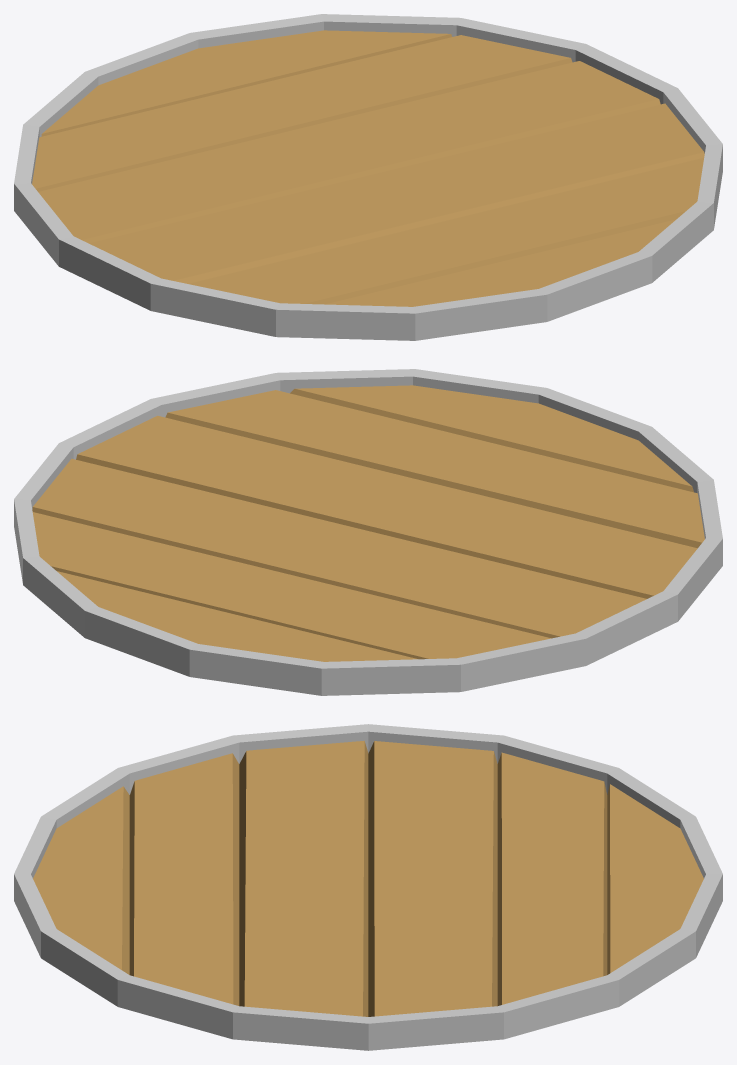
File: Shield_1_a_wood.fbx
3 views of the same model, one above another, from view 1: azimuth 30°, elevation 25°; view 2: azimuth 150°, elevation 25°; view 3: azimuth 270°, elevation 25° (orthographic).
Visible parts, largest first — view 1: Circle.065, Circle.067; view 2: Circle.065, Circle.067; view 3: Circle.065, Circle.067.
Part boxes in pixels (left/top/right/bottom): Circle.065: left=32, top=30, right=704, bottom=306; Circle.067: left=14, top=14, right=722, bottom=340; Circle.065: left=32, top=385, right=704, bottom=661; Circle.067: left=14, top=369, right=722, bottom=695; Circle.065: left=33, top=740, right=703, bottom=1016; Circle.067: left=14, top=724, right=722, bottom=1050.
Size of the model in its own units: 73.5 by 14.17 by 73.5.
